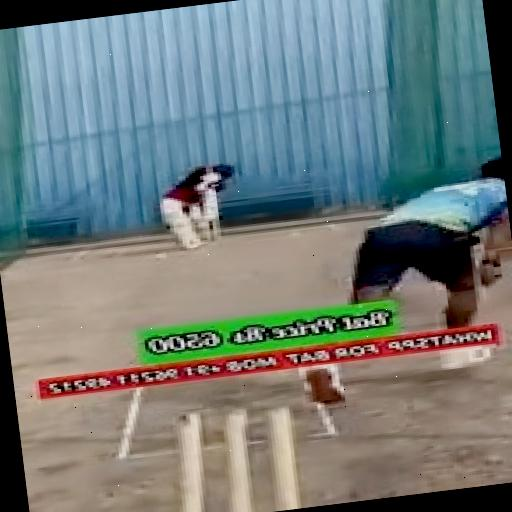Cricket bat: (204, 189, 221, 225)
